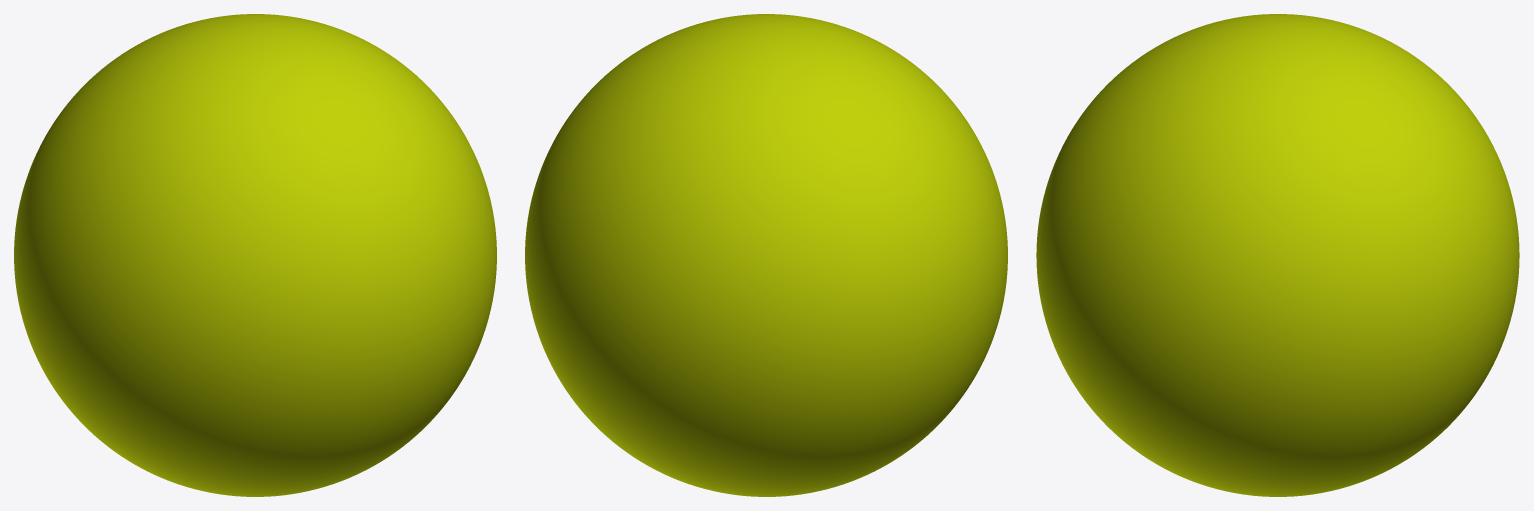
The model's file is bola.obj.
3 renders of one model, left to right at view 1: azimuth 30°, elevation 25°; view 2: azimuth 150°, elevation 25°; view 3: azimuth 270°, elevation 25°, orthographic.
Parts seen in each view (by area): view 1: Icosphere; view 2: Icosphere; view 3: Icosphere.
Boxes of the visible parts, left/top/right/bottom form: Icosphere: left=14, top=14, right=496, bottom=496; Icosphere: left=525, top=14, right=1007, bottom=496; Icosphere: left=1036, top=14, right=1519, bottom=496.
Size of the model in its own units: 2 by 2 by 2.
